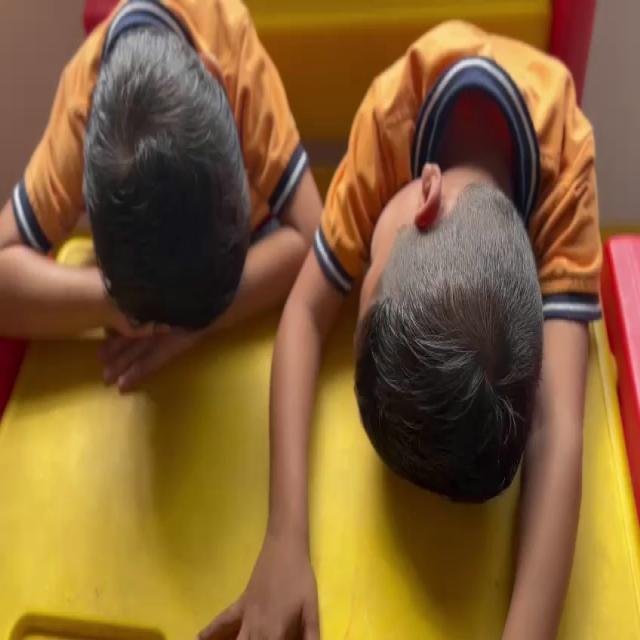child: (289, 22, 604, 619), (41, 29, 266, 434)
